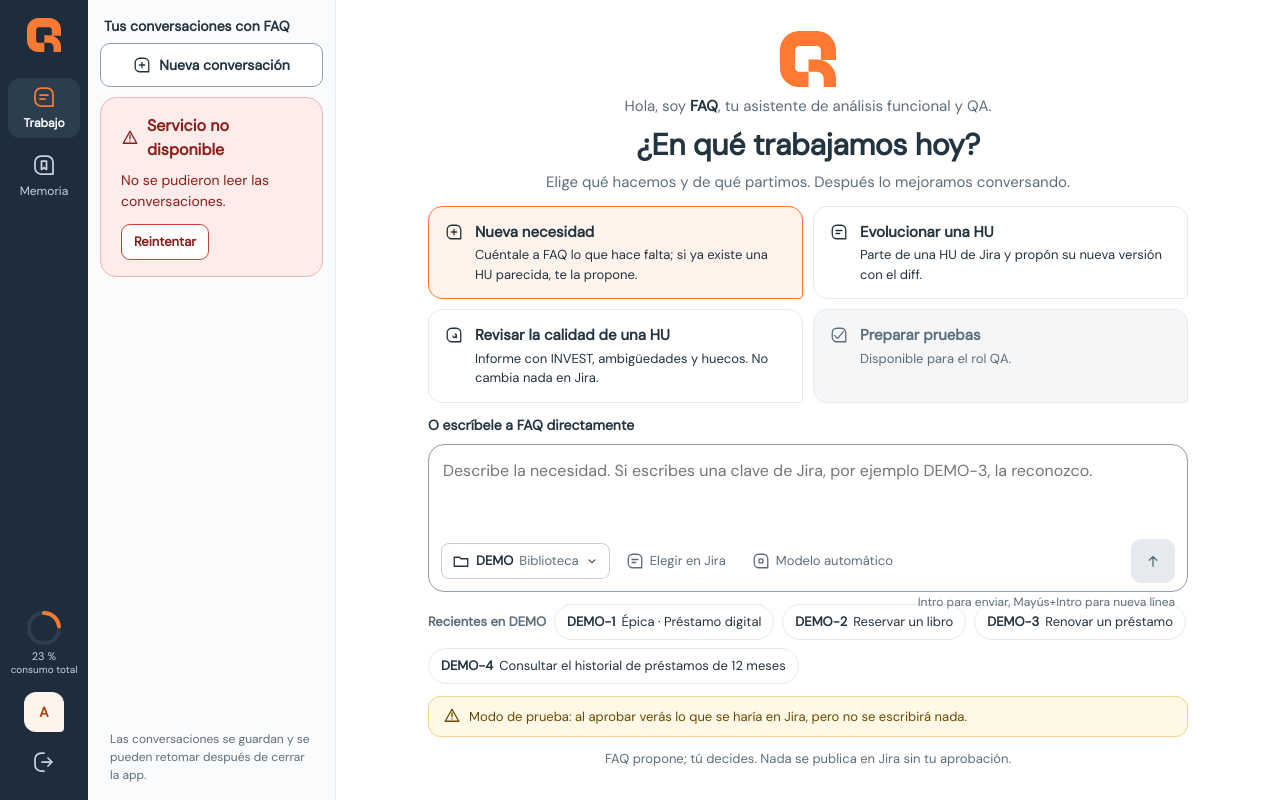
Test: AppShell: lista de conversaciones con error (UI.md §7) › si GET /conversations falla, muestra la tarjeta de error con Reintentar en lugar del estado vacío
Expected: the message shows "No se pudieron leer las conversaciones.", [121, 171, 269, 210]
Click the button "Reintentar" at [165, 242], box [121, 224, 209, 260]
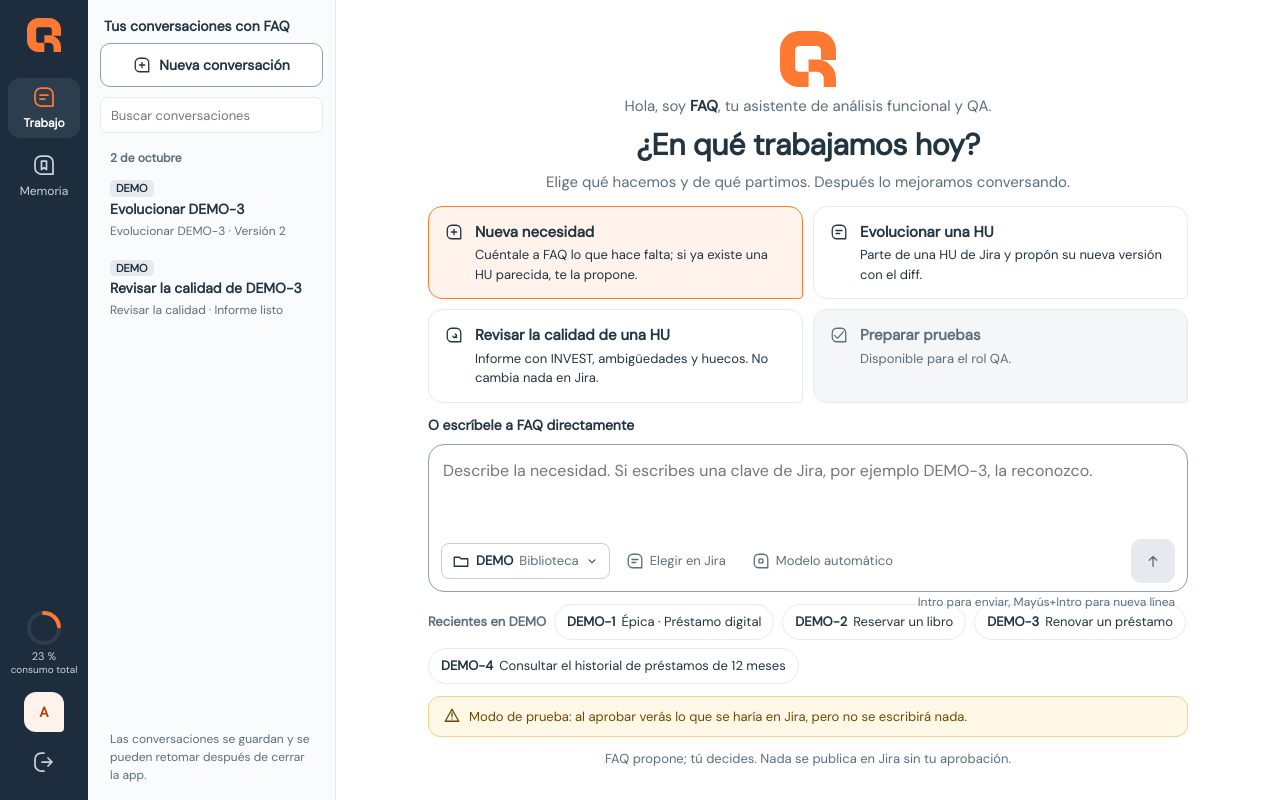
Expected: the button "DEMO Evolucionar DEMO-3 Evolucionar DEMO-3 · Versión 2" is shown, [100, 171, 323, 248]
Expected: the message "Servicio no disponible No se pudieron leer las conversaciones. Reintentar" is gone
